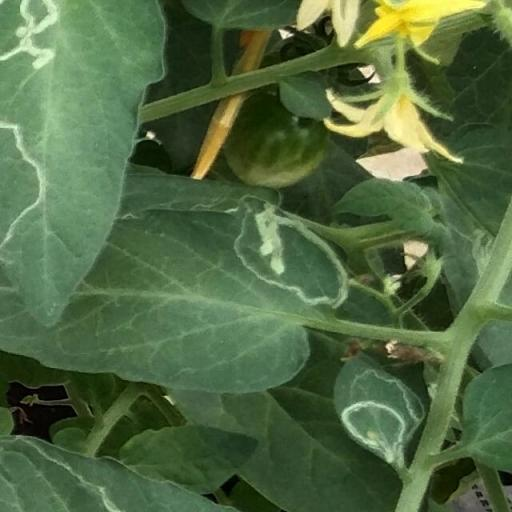Leaf Miner: (0, 197, 349, 393), (0, 0, 168, 328), (332, 350, 428, 466)
